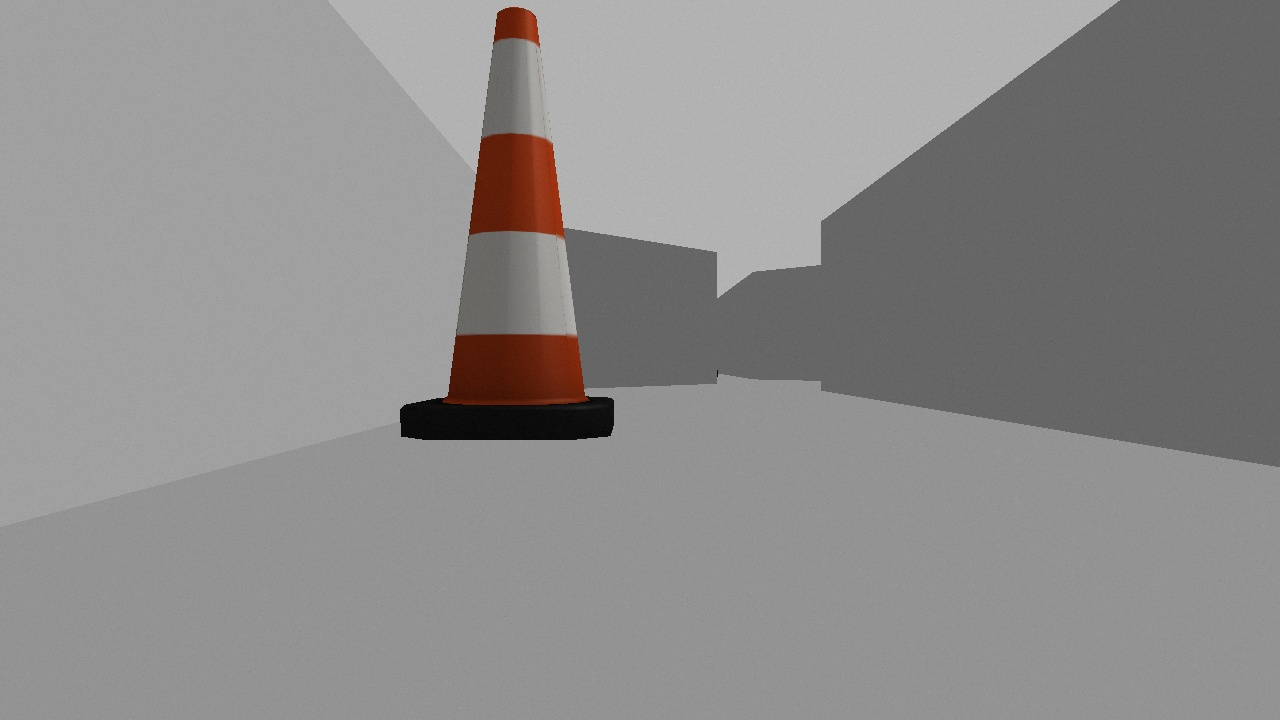barricade: (400, 5, 615, 440)
